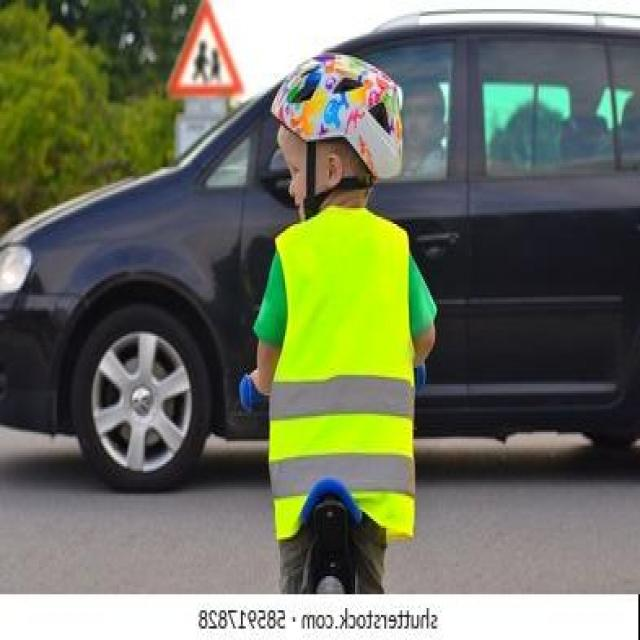Reflective-Jacket: (259, 210, 420, 546)
Safety-Helmet: (269, 50, 410, 190)
